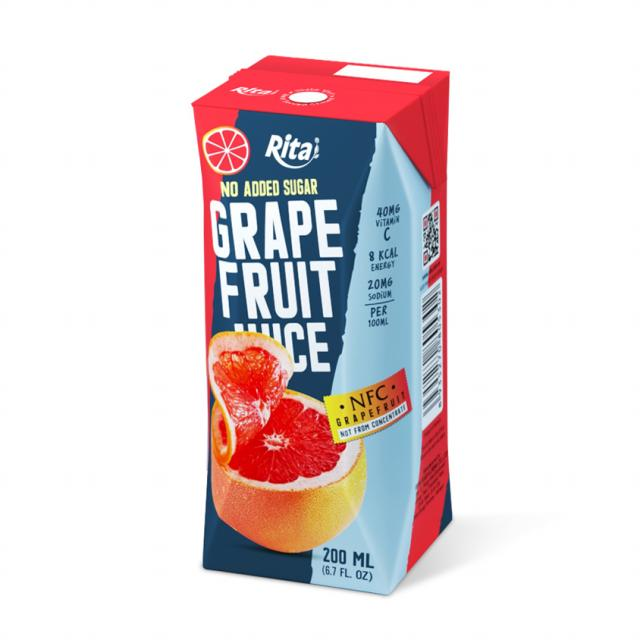non_white_jug: (192, 28, 470, 594)
